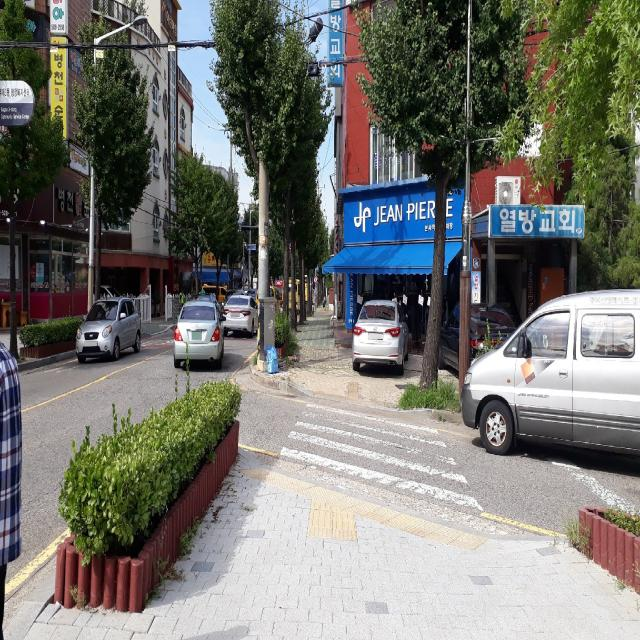횡단보도: (279, 403, 485, 514)
